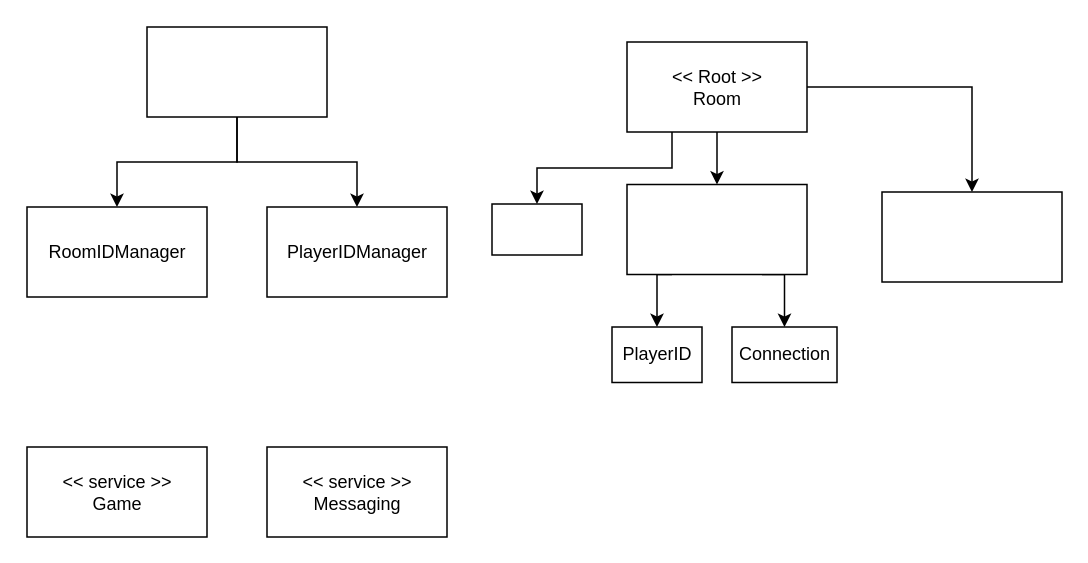
This 1088x563 diagram has some shape labels left out. The centre of each missing label's shape, as x and y in pixels:
"<< Repository >> RoomDB" goes at [236,71].
"GameRule" goes at [971,236].
"Player" goes at [716,228].
"RoomID" goes at [536,228].
